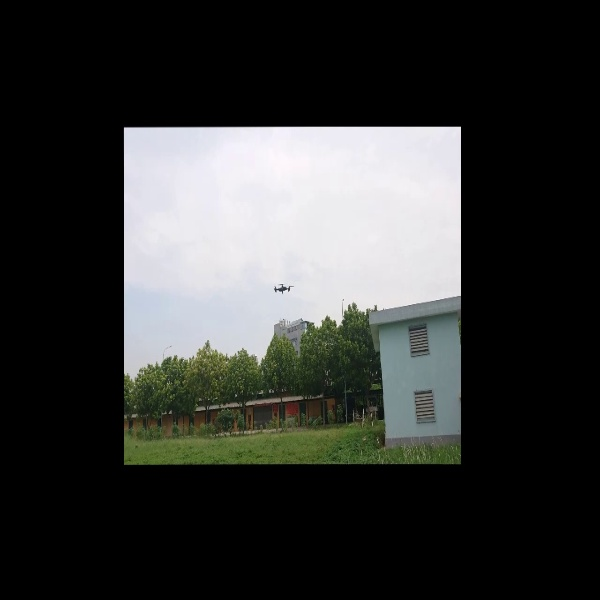drone: (270, 277, 298, 297)
